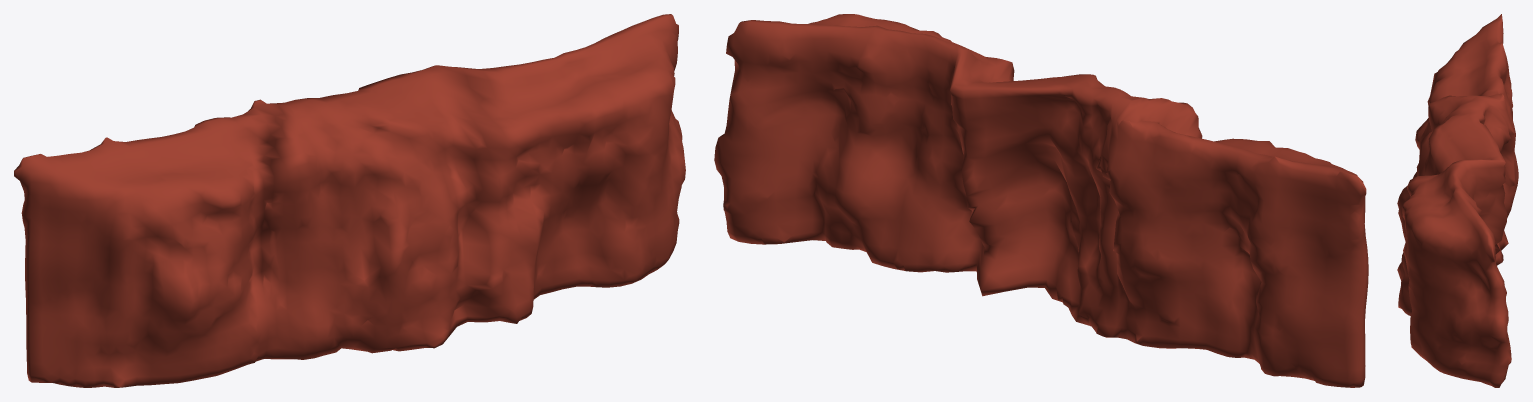
Rendered from Felsen-LP4.fbx.
3 views of the same model, side by side, from view 1: azimuth 30°, elevation 25°; view 2: azimuth 150°, elevation 25°; view 3: azimuth 270°, elevation 25° (orthographic). The views are drawn at different scales.
Parts seen in each view (by area): view 1: LP-Felsen; view 2: LP-Felsen; view 3: LP-Felsen.
Boxes of the visible parts, <box> form: LP-Felsen: <box>14,14,685,387</box>; LP-Felsen: <box>714,14,1368,387</box>; LP-Felsen: <box>1397,14,1518,387</box>.
Size of the model in its own units: 1206 by 409 by 273.
